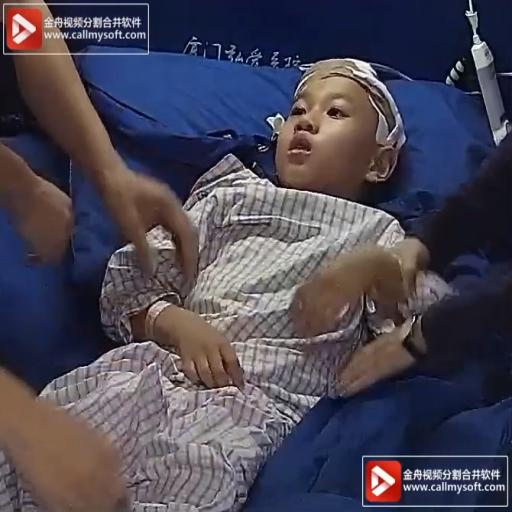Seizure: (280, 49, 399, 180)
